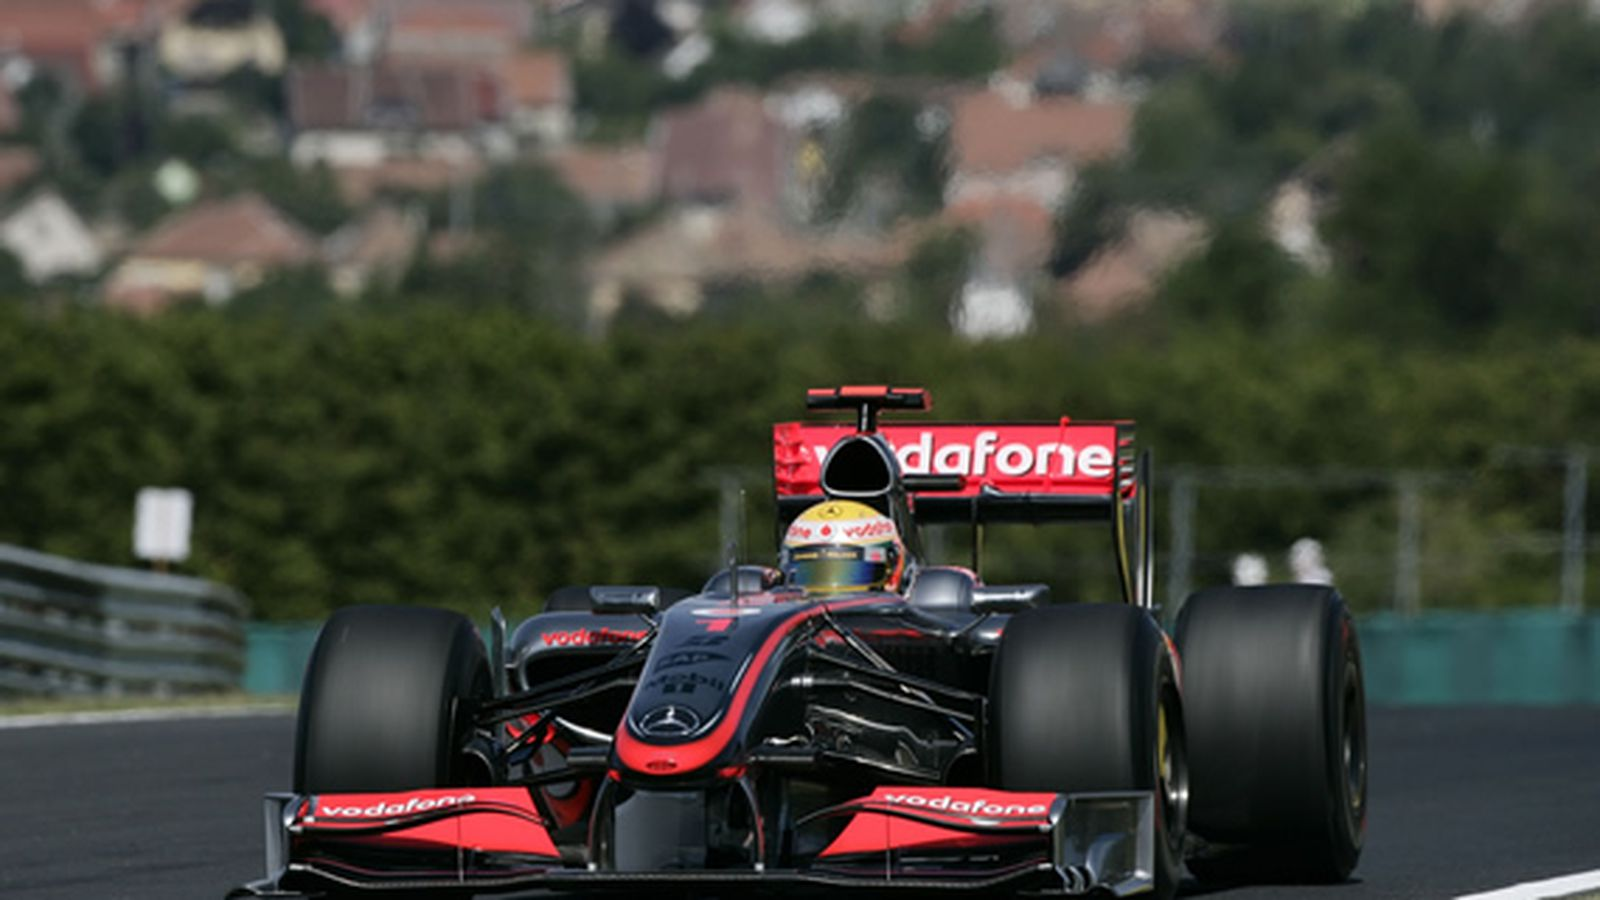f1_car: (227, 358, 1386, 900)
helmet: (768, 492, 921, 612)
